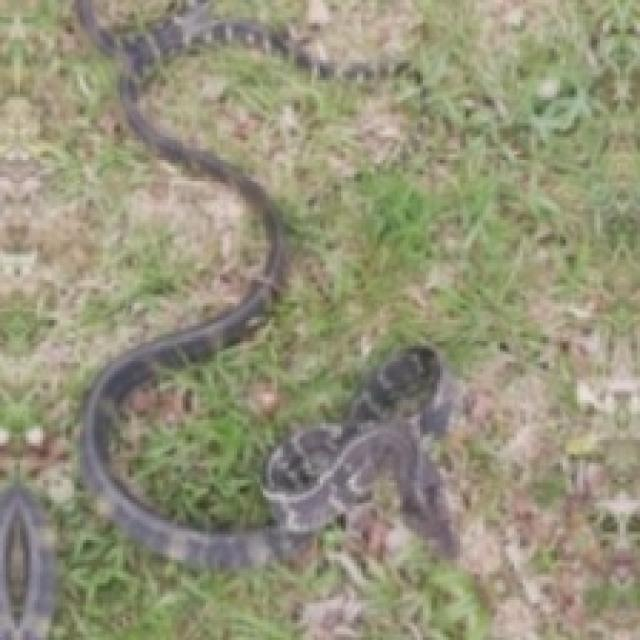dog-toothed cat snake: (74, 0, 457, 566)
